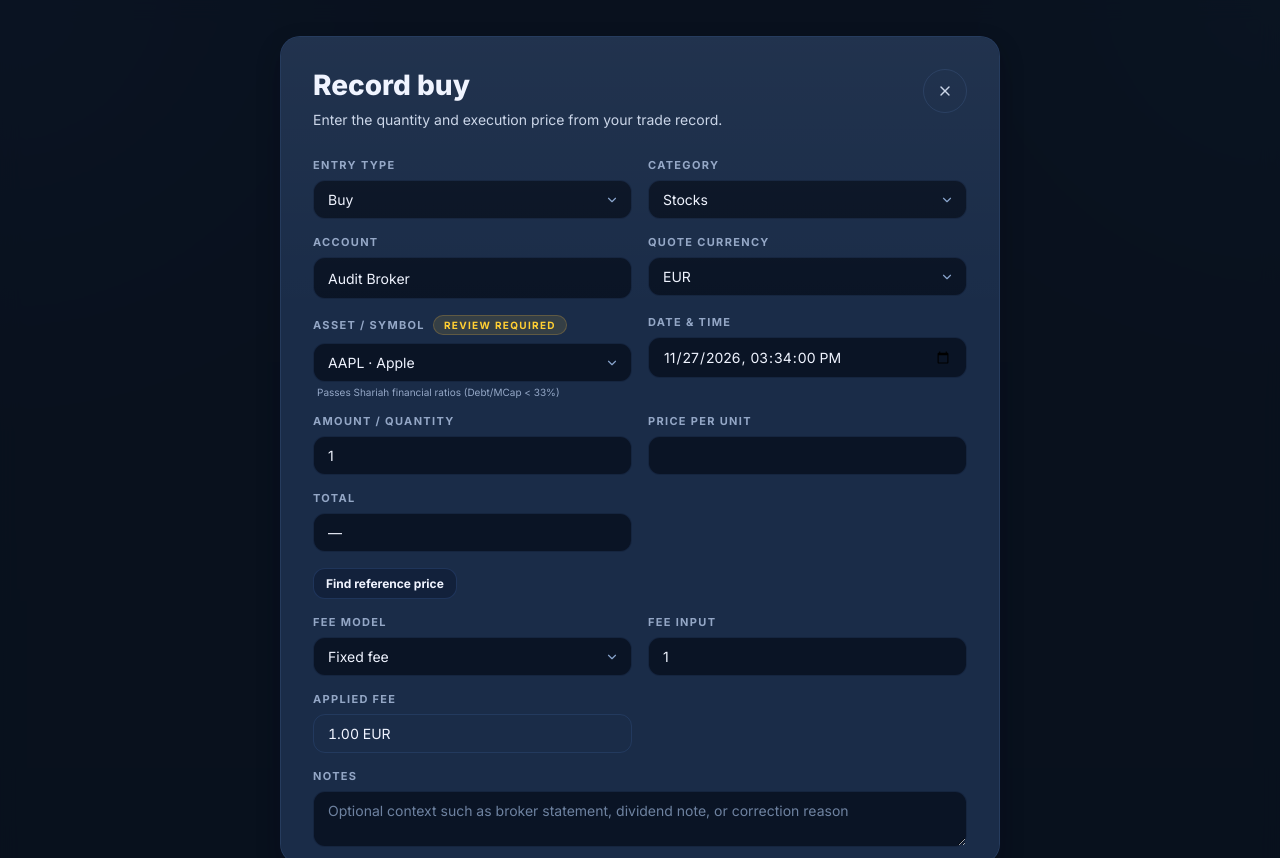
it: announces invalid decimal input and focuses the price field
Select "META · Meta Platforms" in the dropdown labelled "Asset / Symbol" at (472, 363), box [313,343,632,382]
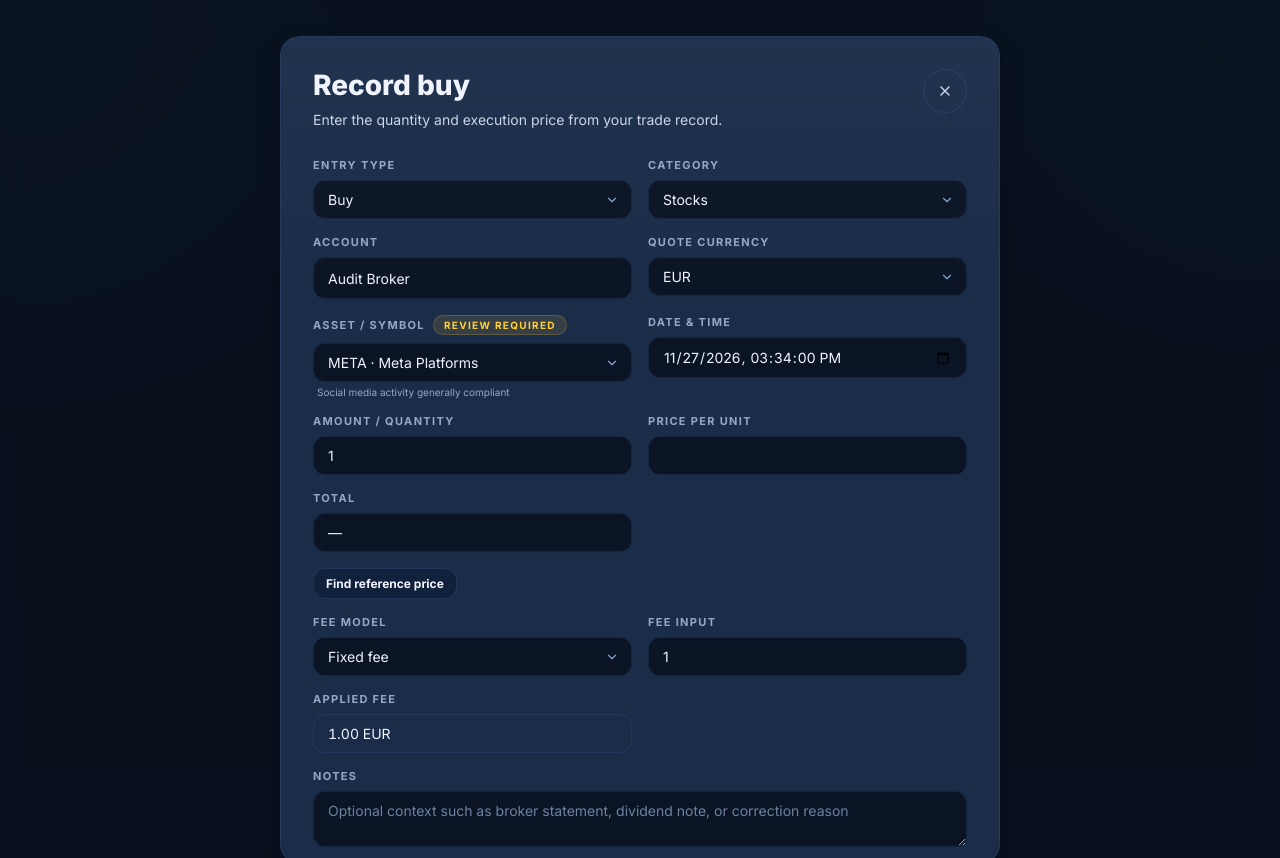
Replace the text in the field labelled "Date & Time" with "2024-11-20T19:33" at (808, 358), box [648,337,967,378]
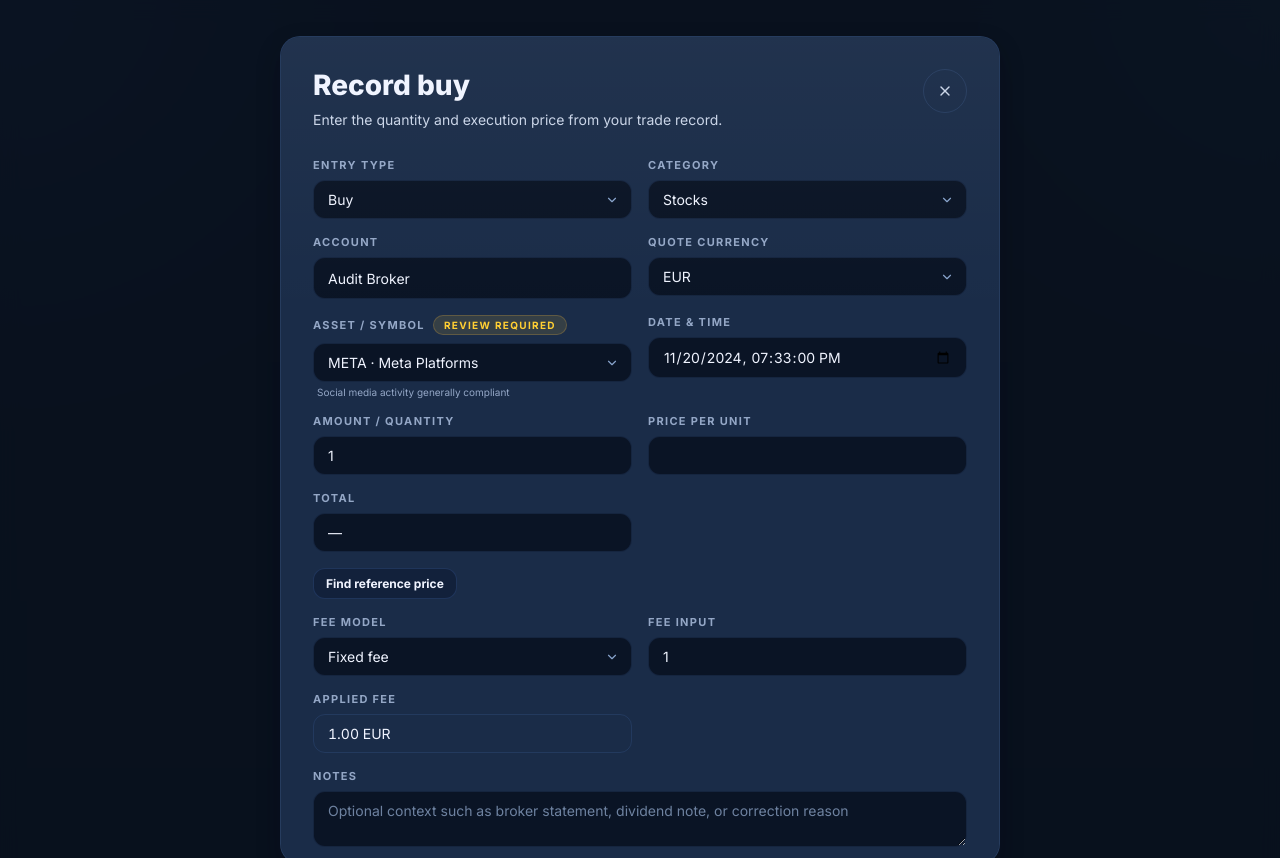
Replace the text in the field labelled "Amount / Quantity" with "3" at (472, 456), box [313,436,632,475]
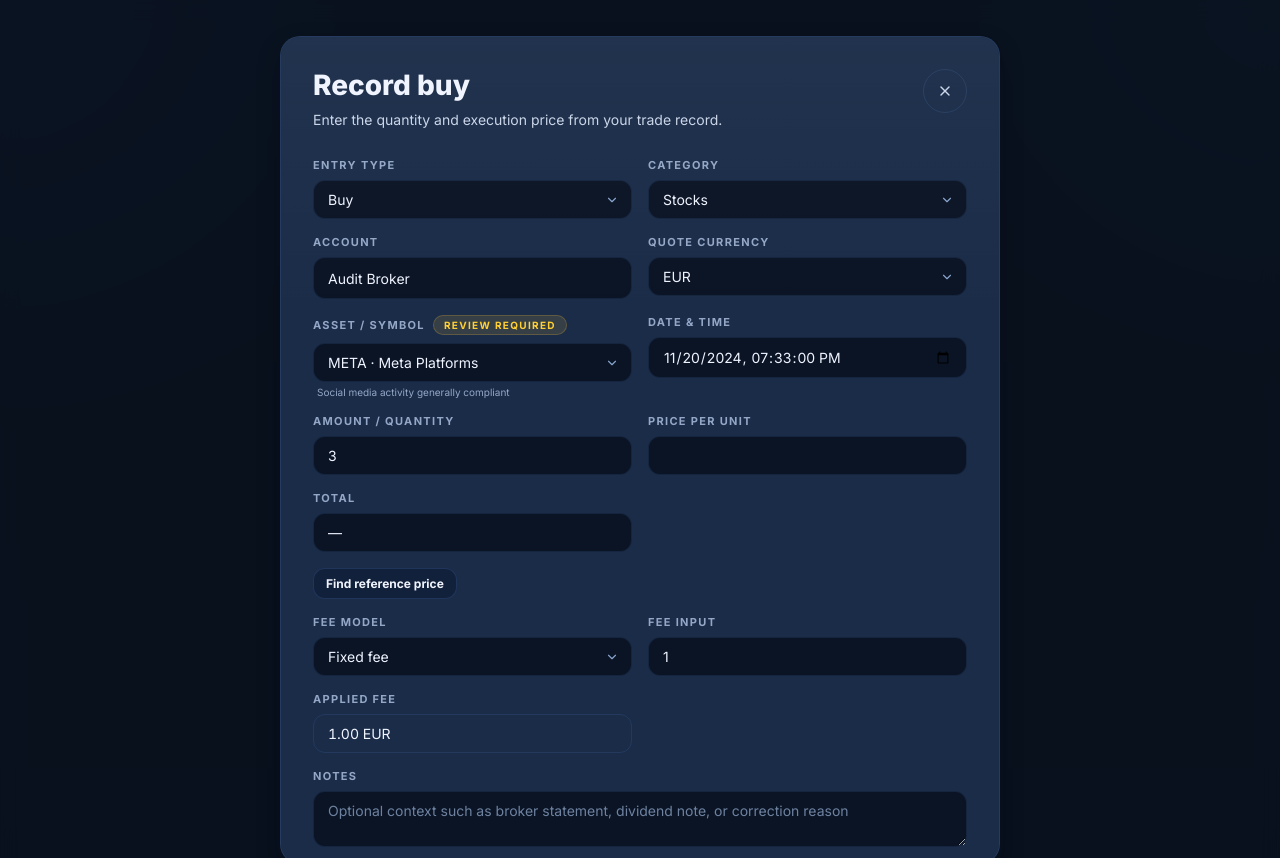
Type "1.234,56" into the field labelled "Price per Unit" at (808, 456), box [648,436,967,475]
(page scrolled)
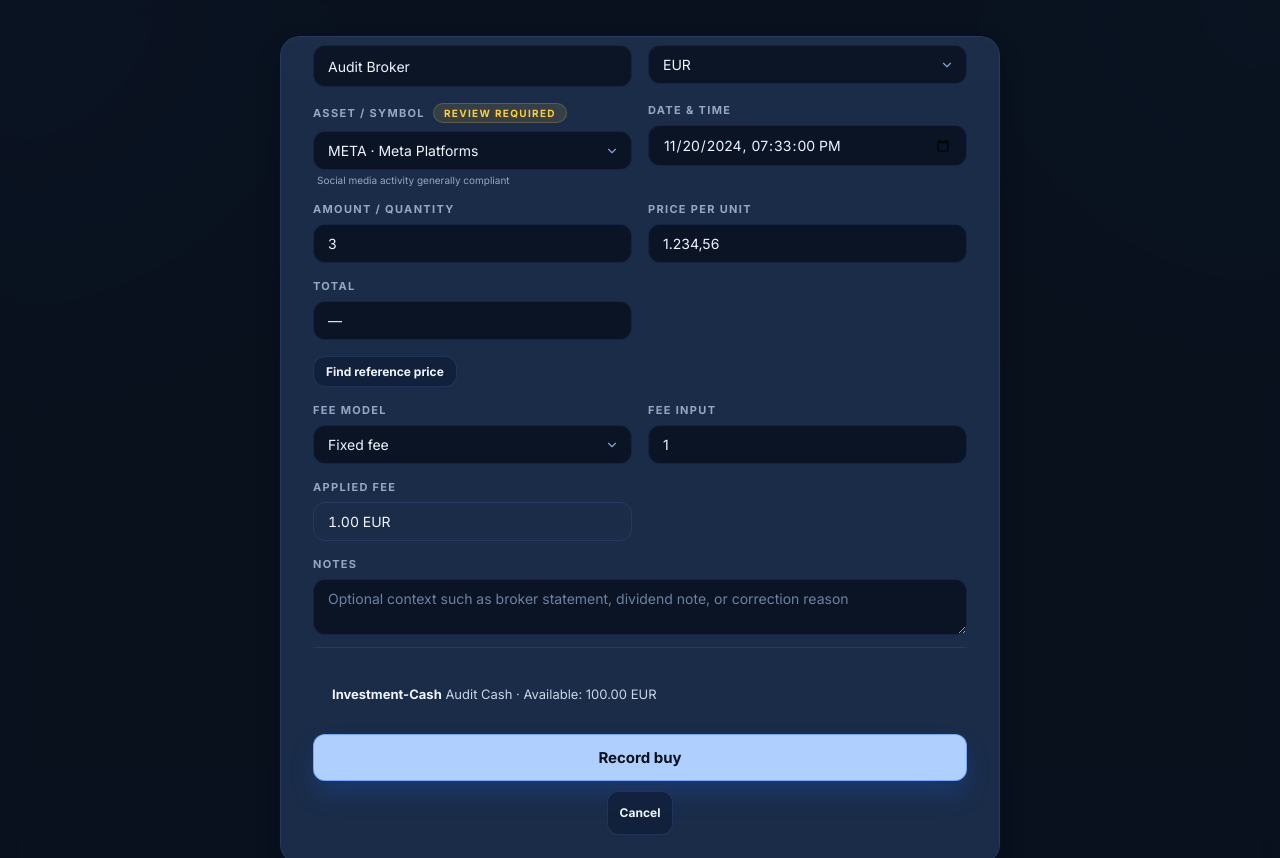
Click the button "Record buy" at (640, 757), box [313,734,967,781]
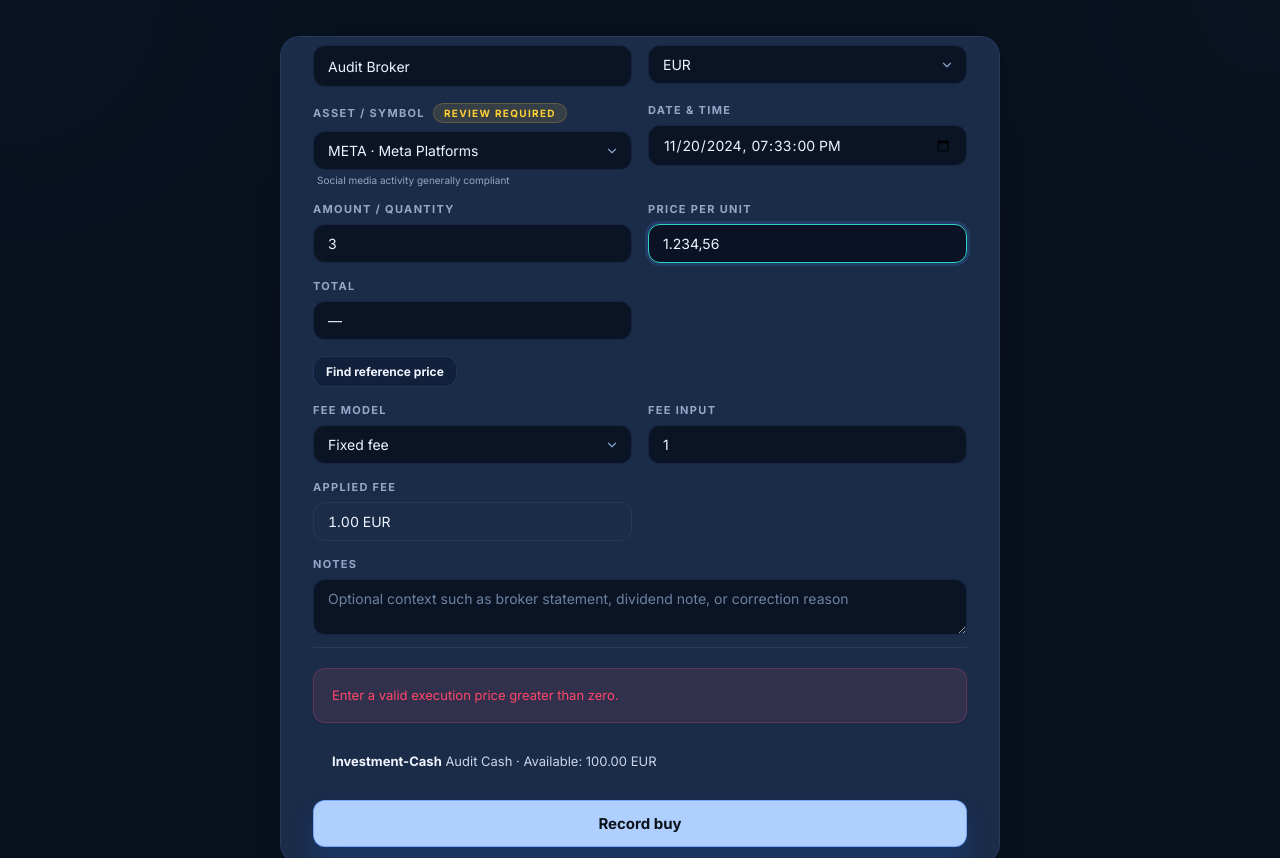
expect the message shows "price": met, box [332,687,618,703]
